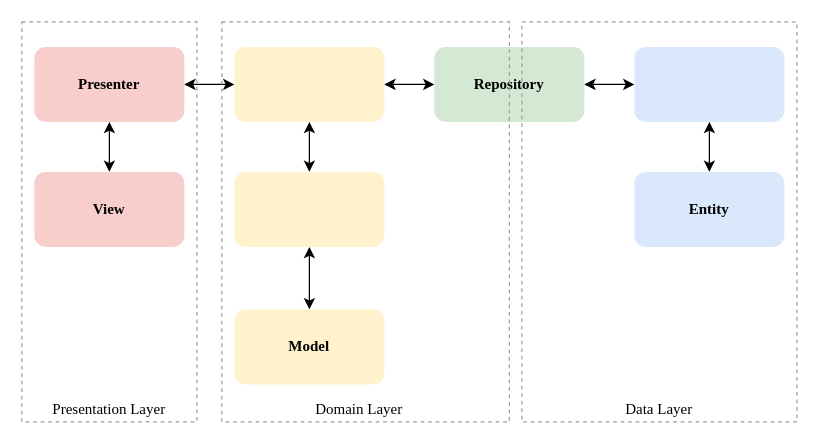
Some shapes in this 819 by 444 pixel diagram are drawn without their labels. Here are the shapes that lost their labels. From the top down, the centre of each, then its label:
(x=309, y=83): UseCase
(x=709, y=83): DataStore
(x=309, y=208): Translater
